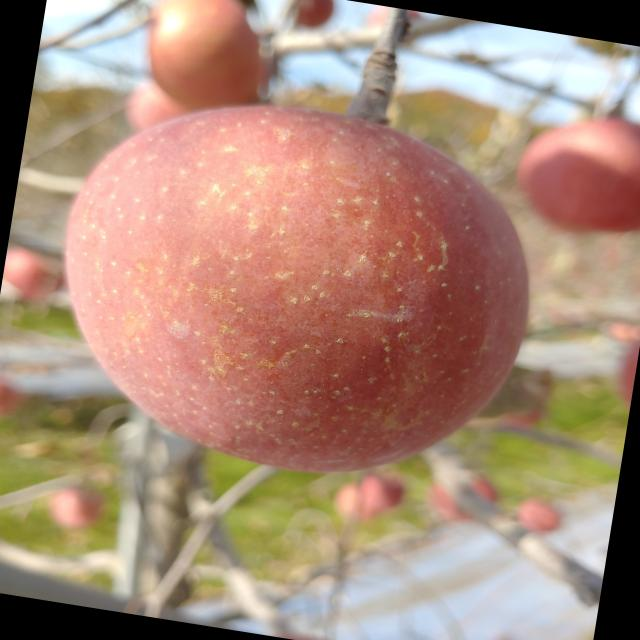fresh: (29, 68, 568, 508)
